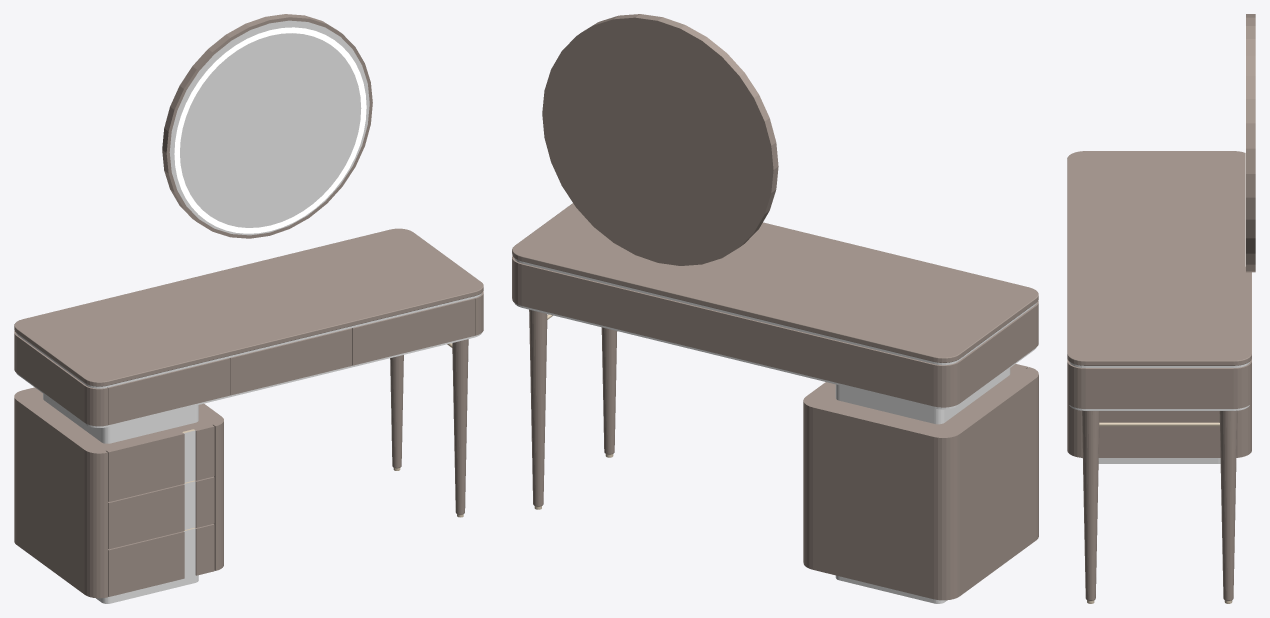
File: mejarias1.glb
The picture shows the model from 3 angles, left to right: view 1: azimuth 30°, elevation 25°; view 2: azimuth 150°, elevation 25°; view 3: azimuth 270°, elevation 25°; orthographic projection. The views are drawn at different scales.
Parts seen in each view (by area): view 1: 3DGeom-4, Cylinder, 3DGeom-6, 3DGeom-15, 3DGeom-16, 3DGeom-21, 3DGeom-8, 3DGeom-13, 3DGeom-17, 3DGeom-10, 3DGeom-5, 3DGeom-7 (+1 smaller); view 2: Cylinder, 3DGeom-15, 3DGeom-4, 3DGeom-6, 3DGeom-10, 3DGeom-13, 3DGeom-8, 3DGeom-5, 3DGeom-7; view 3: 3DGeom-4, 3DGeom-6, 3DGeom-15, 3DGeom-8, 3DGeom-10, Cylinder, 3DGeom-14, 3DGeom-12, 3DGeom-5, 3DGeom-7.
Boxes of the visible parts, <box> form: 3DGeom-4: <box>14,228,483,386</box>; Cylinder: <box>162,14,372,238</box>; 3DGeom-6: <box>14,291,483,426</box>; 3DGeom-15: <box>14,387,223,598</box>; 3DGeom-16: <box>106,425,214,596</box>; 3DGeom-21: <box>174,27,366,233</box>; 3DGeom-8: <box>452,339,468,514</box>; 3DGeom-13: <box>43,393,198,443</box>; 3DGeom-17: <box>184,430,195,577</box>; 3DGeom-10: <box>390,355,403,468</box>; 3DGeom-5: <box>16,293,481,388</box>; 3DGeom-7: <box>16,333,481,427</box>; Cylinder: <box>542,14,778,265</box>; 3DGeom-15: <box>803,366,1038,600</box>; 3DGeom-4: <box>512,203,1038,362</box>; 3DGeom-6: <box>512,256,1038,407</box>; 3DGeom-10: <box>529,309,547,506</box>; 3DGeom-13: <box>835,368,1010,424</box>; 3DGeom-8: <box>601,327,617,454</box>; 3DGeom-5: <box>514,258,1036,365</box>; 3DGeom-7: <box>514,303,1036,409</box>; 3DGeom-4: <box>1067,151,1251,365</box>; 3DGeom-6: <box>1067,359,1251,408</box>; 3DGeom-15: <box>1067,402,1251,457</box>; 3DGeom-8: <box>1082,410,1099,600</box>; 3DGeom-10: <box>1219,410,1237,600</box>; Cylinder: <box>1246,14,1255,272</box>; 3DGeom-14: <box>1098,458,1220,463</box>; 3DGeom-12: <box>1099,422,1219,426</box>; 3DGeom-5: <box>1069,362,1249,367</box>; 3DGeom-7: <box>1069,405,1249,410</box>.
Bounding box in the file's own units: 1.35 × 1.53 × 0.5101.
